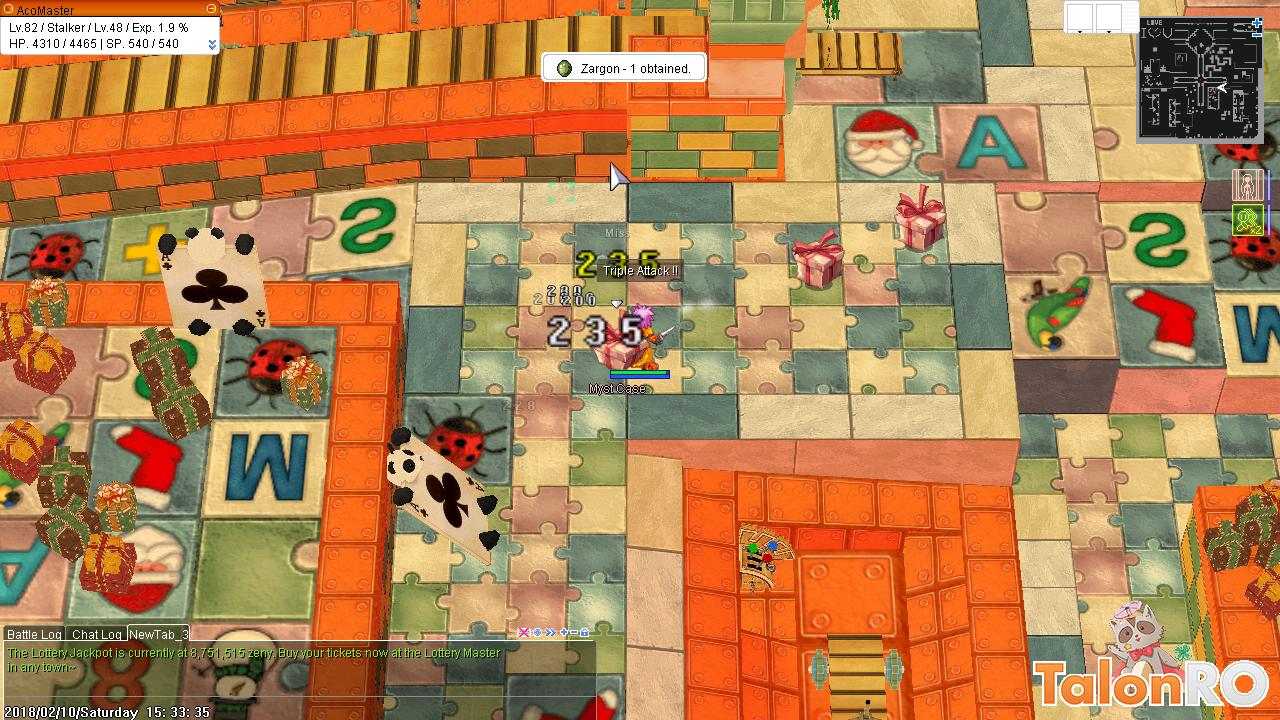myst_case: (890, 181, 947, 254), (790, 227, 848, 293), (589, 322, 644, 377)
